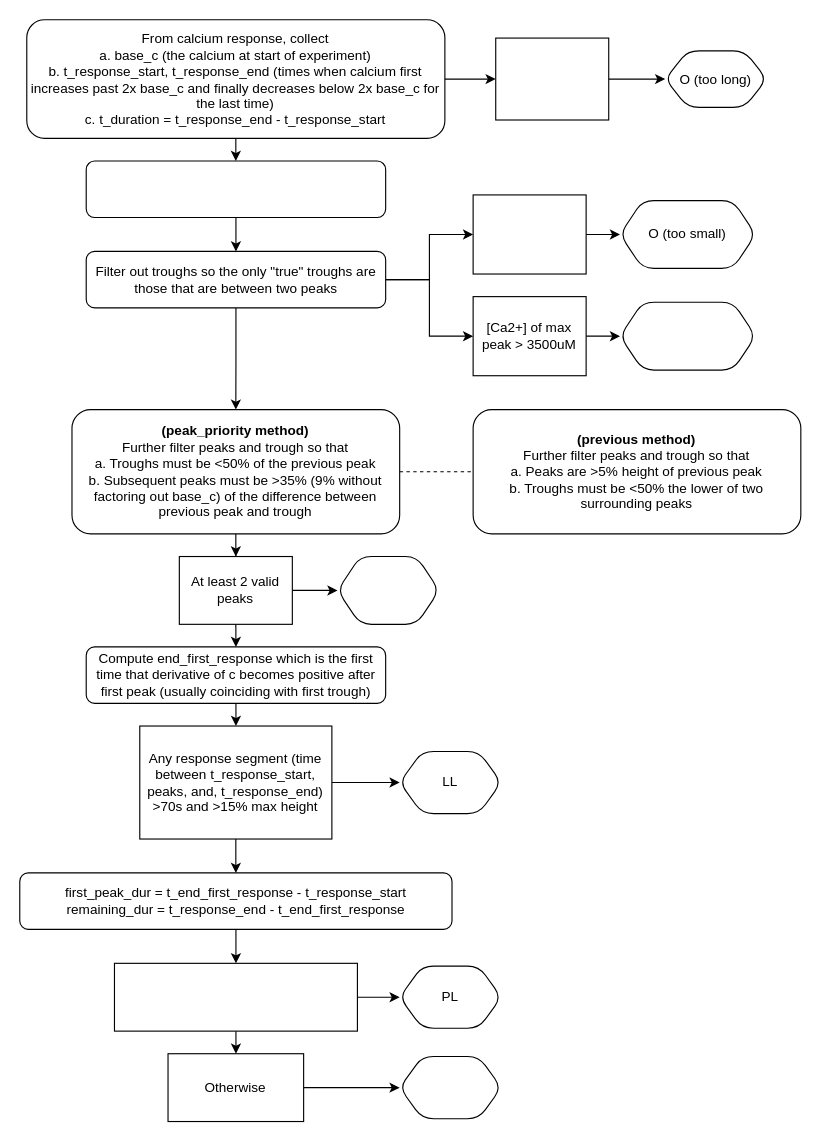
This 822x1141 diagram has some shape labels left out. The shapes that lost their labels are listed below. From the top down, each one's box as (x1, y1, x2, y2) in pixels, then its label:
(495, 37, 609, 120): t_duration > 200
(85, 160, 386, 218): Find all peaks and troughs in the calcium signal (local max and mins)
(472, 194, 586, 274): [Ca2+] of max peak < 400uM
(619, 301, 756, 370): O (too big)
(336, 555, 439, 624): MP
(113, 962, 357, 1031): remaining_dur > first_peak_dur * 0.5
(399, 1055, 501, 1119): SP
